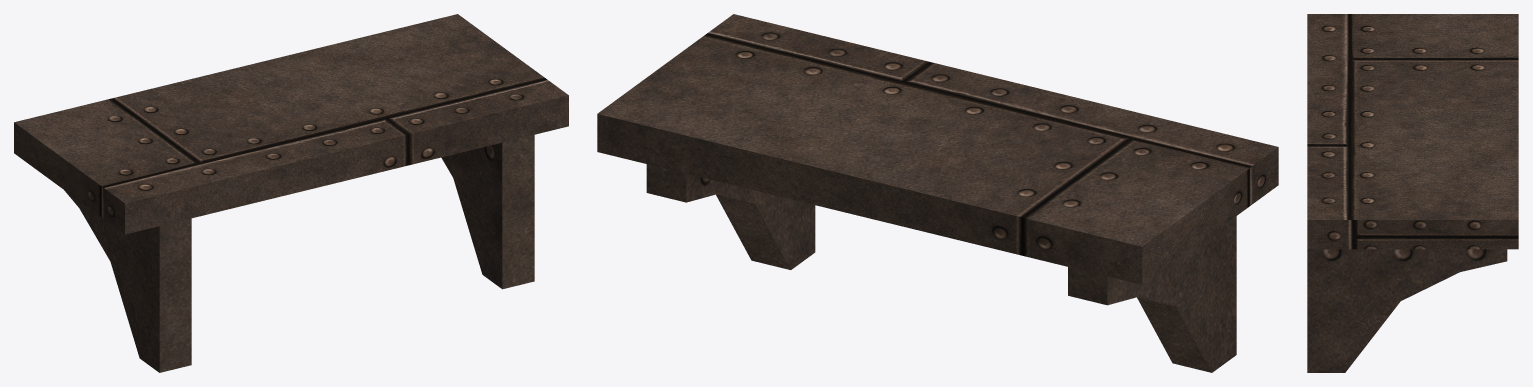
File: Shelf_Hang_2_Metal.fbx
The picture shows the model from 3 angles, left to right: view 1: azimuth 30°, elevation 25°; view 2: azimuth 150°, elevation 25°; view 3: azimuth 270°, elevation 25°; orthographic projection. The views are drawn at different scales.
Visible parts, largest first — view 1: Shelf_Hang_2_Metal; view 2: Shelf_Hang_2_Metal; view 3: Shelf_Hang_2_Metal.
Part boxes in pixels (left/top/right/bottom): Shelf_Hang_2_Metal: left=14, top=14, right=568, bottom=372; Shelf_Hang_2_Metal: left=597, top=14, right=1278, bottom=372; Shelf_Hang_2_Metal: left=1307, top=14, right=1518, bottom=372.
Size of the model in its own units: 76.3 by 29.21 by 33.08.
